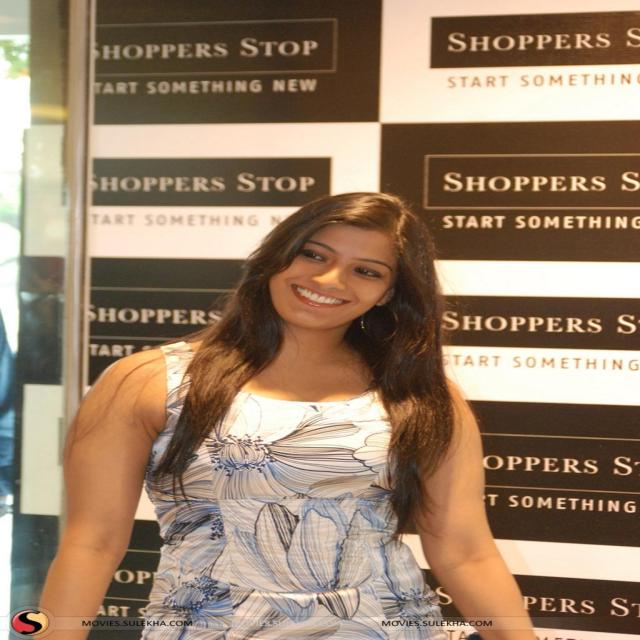Face: (261, 217, 409, 339)
